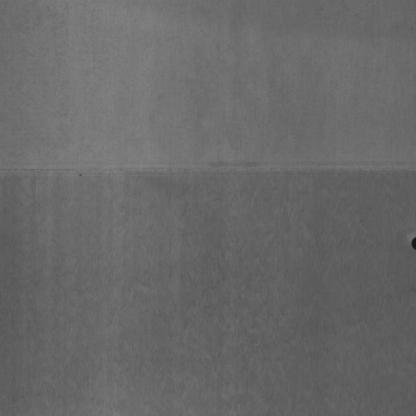punching_hole: (406, 232, 416, 255)
silk_spot: (14, 203, 398, 404)
welding_line: (0, 153, 416, 190)
